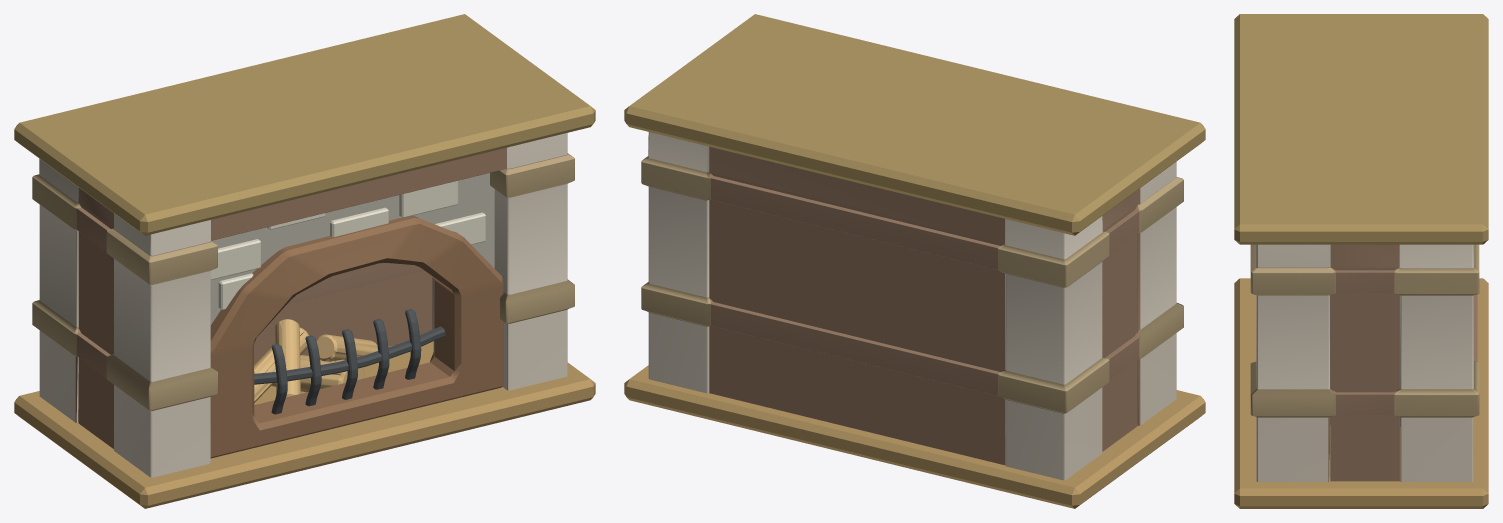
The model's file is fireplace past.fbx.
3 renders of one model, left to right at view 1: azimuth 30°, elevation 25°; view 2: azimuth 150°, elevation 25°; view 3: azimuth 270°, elevation 25°, orthographic. The views are drawn at different scales.
Parts seen in each view (by area): view 1: pCube16, polySurface1; view 2: pCube16; view 3: pCube16.
Boxes of the visible parts, x1=… form: pCube16: x1=14, y1=14, x2=595, y2=508; polySurface1: x1=254, y1=319, x2=377, y2=402; pCube16: x1=624, y1=14, x2=1205, y2=508; pCube16: x1=1234, y1=14, x2=1488, y2=508.
Size of the model in its own units: 9 by 5.55 by 4.5.
